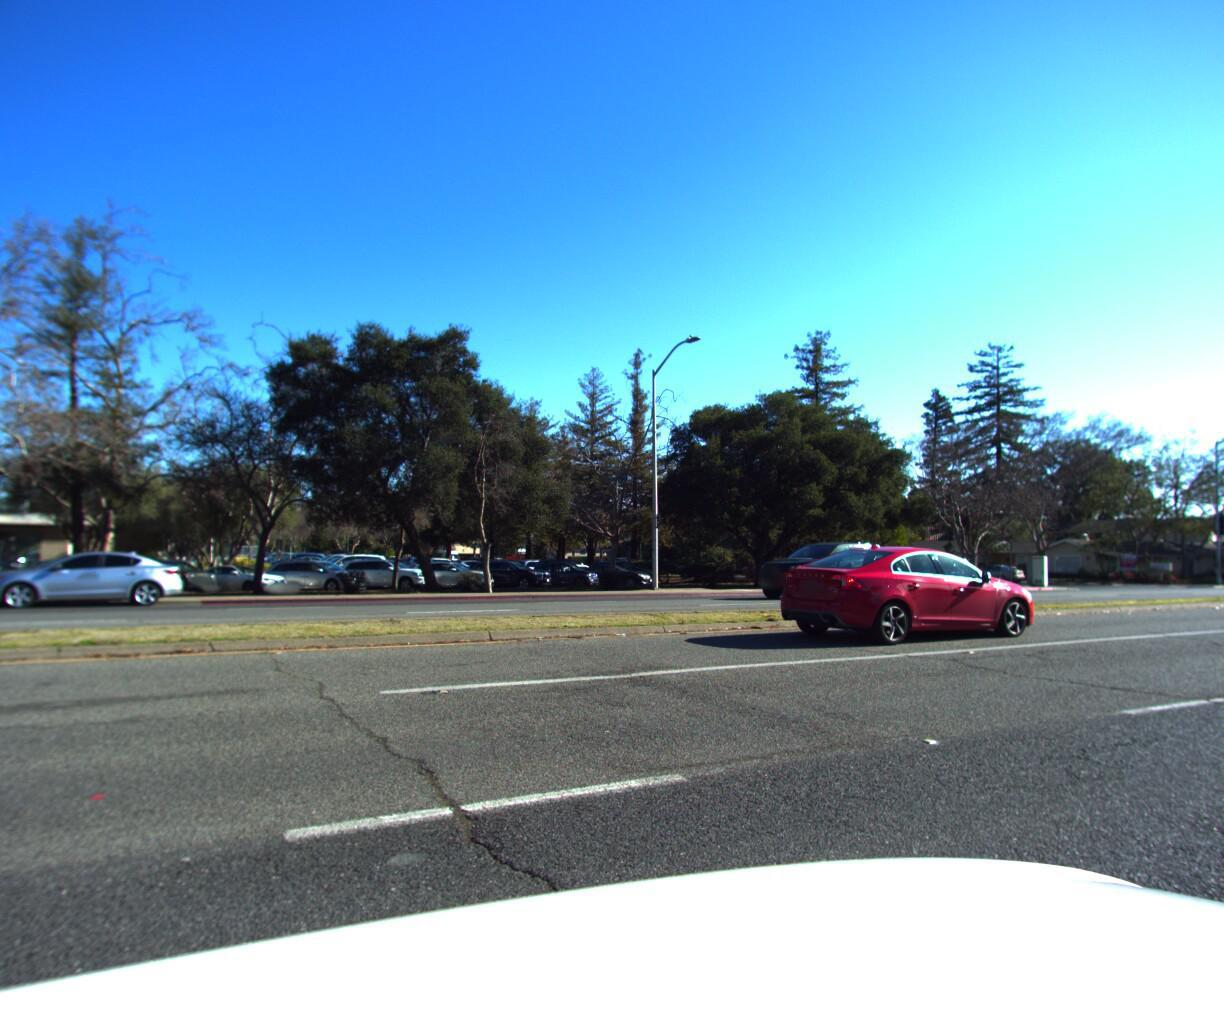car: (739, 538, 1037, 644), (0, 547, 193, 619), (745, 536, 904, 599), (962, 551, 1023, 573)
